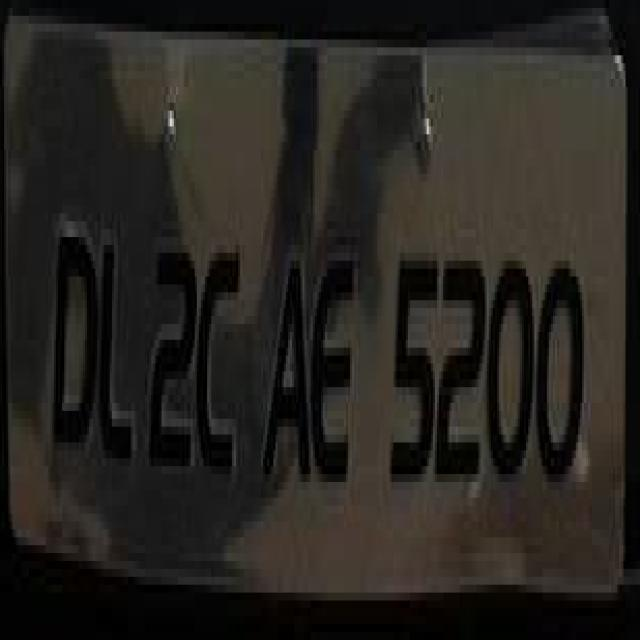plate: (10, 32, 592, 584)
